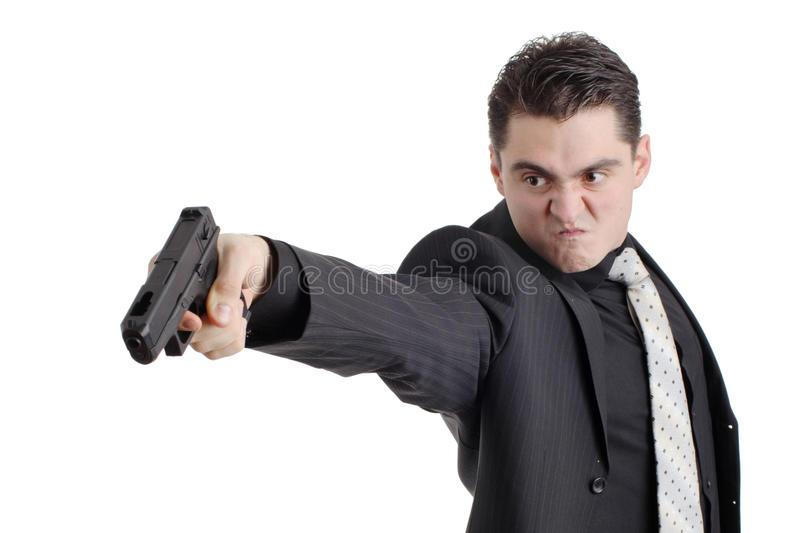criminal: (116, 29, 742, 533)
weapon: (117, 203, 258, 367)
